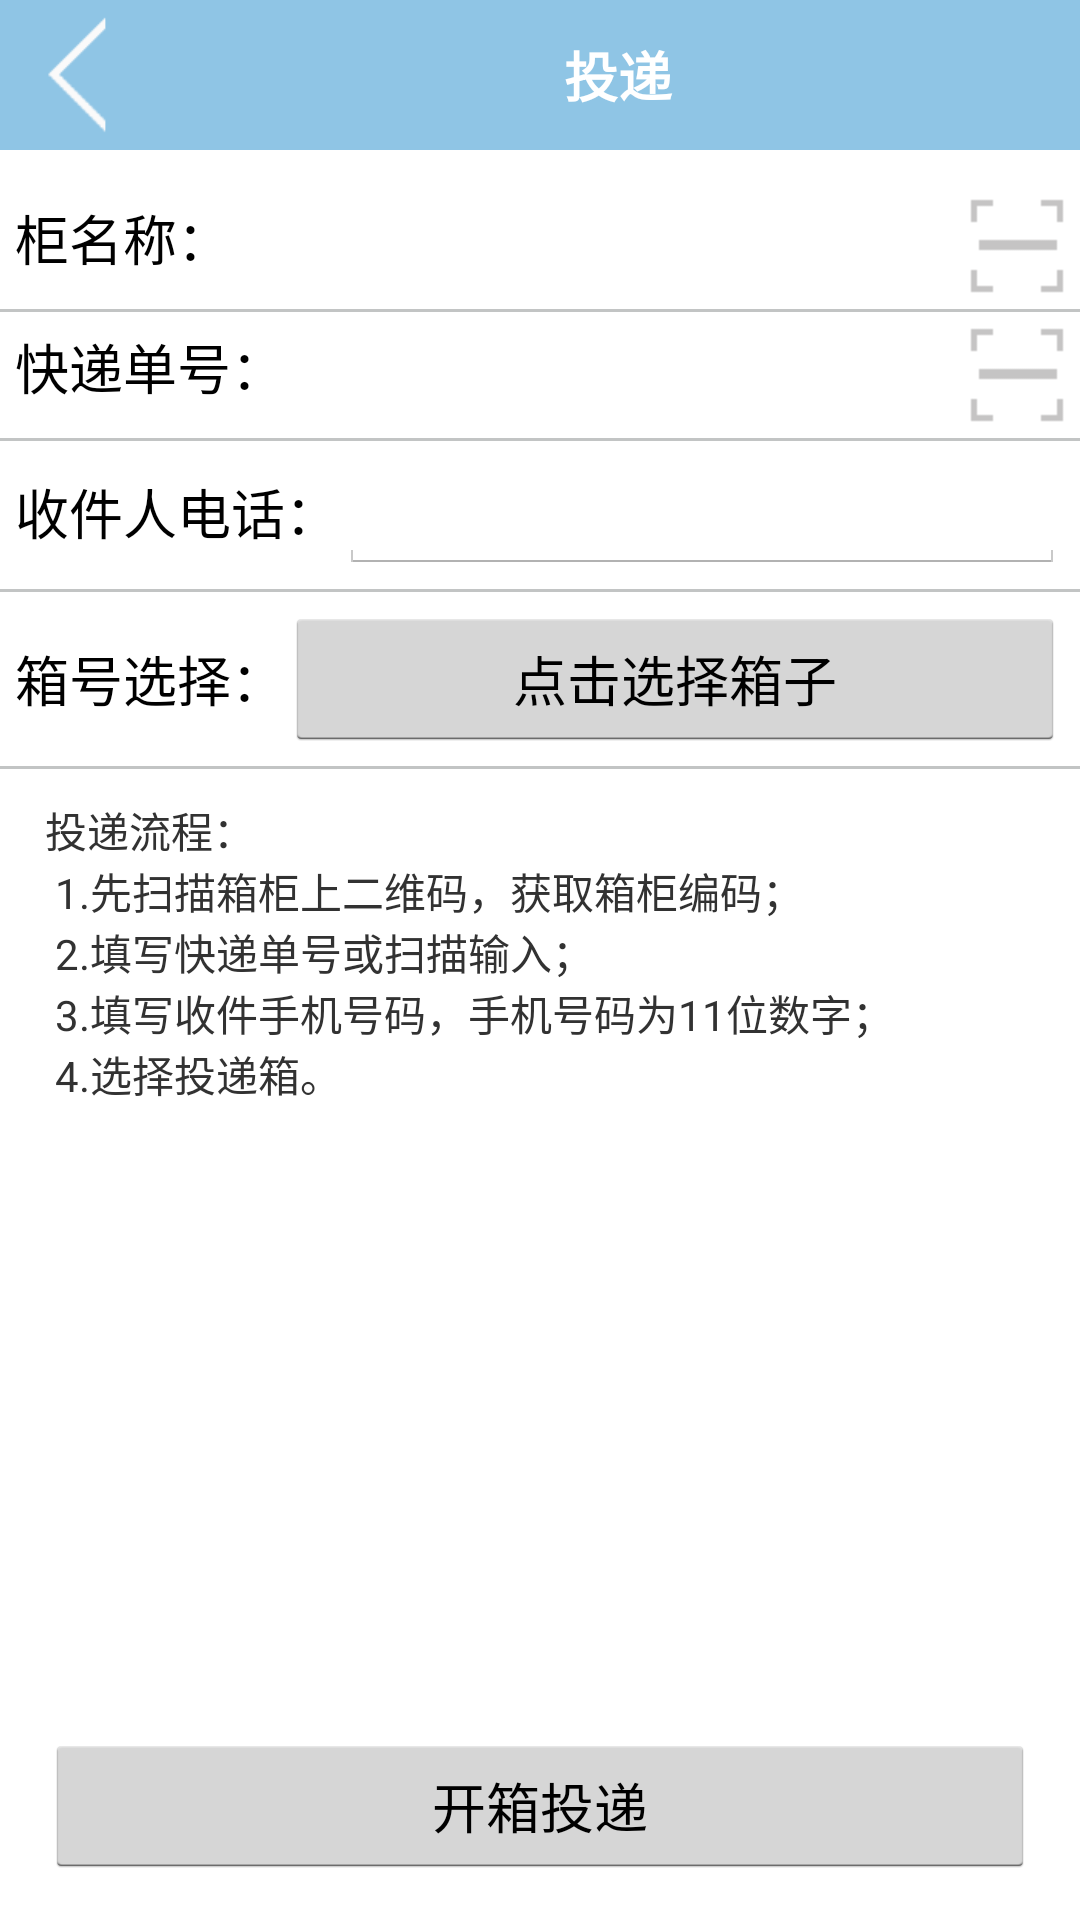

Named icons in this screenshot (1080×1920) and their bounding boxes, (x1, y1, x2, y2):
back: (48, 18, 106, 132)
saoyisao: (971, 200, 1063, 292), (971, 329, 1063, 421)
